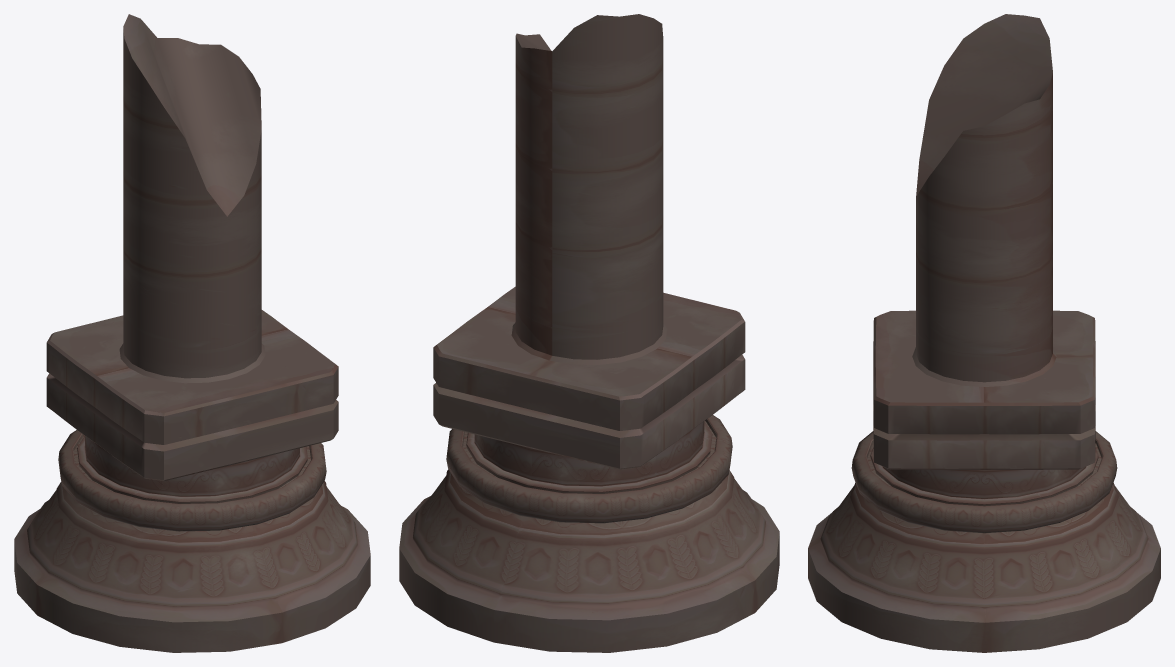
Rendered from PillarDamaged2_5.fbx.
3 views of the same model, side by side, from view 1: azimuth 30°, elevation 25°; view 2: azimuth 150°, elevation 25°; view 3: azimuth 270°, elevation 25° (orthographic). The views are drawn at different scales.
Parts seen in each view (by area): view 1: pasted__pasted__polySurface83; view 2: pasted__pasted__polySurface83; view 3: pasted__pasted__polySurface83.
Boxes of the visible parts, left/top/right/bottom form: pasted__pasted__polySurface83: left=14, top=14, right=370, bottom=652; pasted__pasted__polySurface83: left=399, top=14, right=779, bottom=652; pasted__pasted__polySurface83: left=808, top=14, right=1160, bottom=652.
Size of the model in its own units: 58.51 by 99.35 by 58.51.
